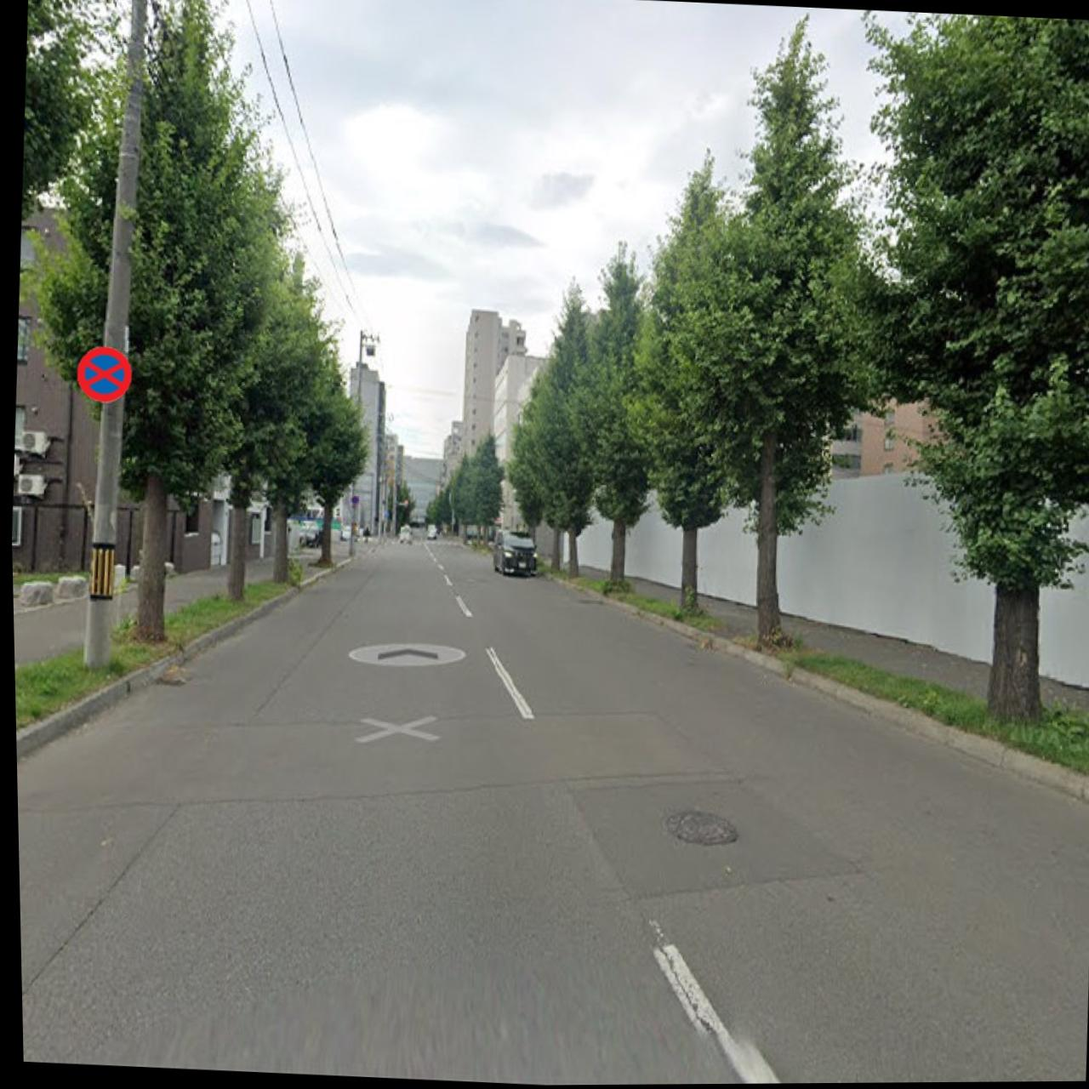stop_sign: (74, 340, 138, 408)
